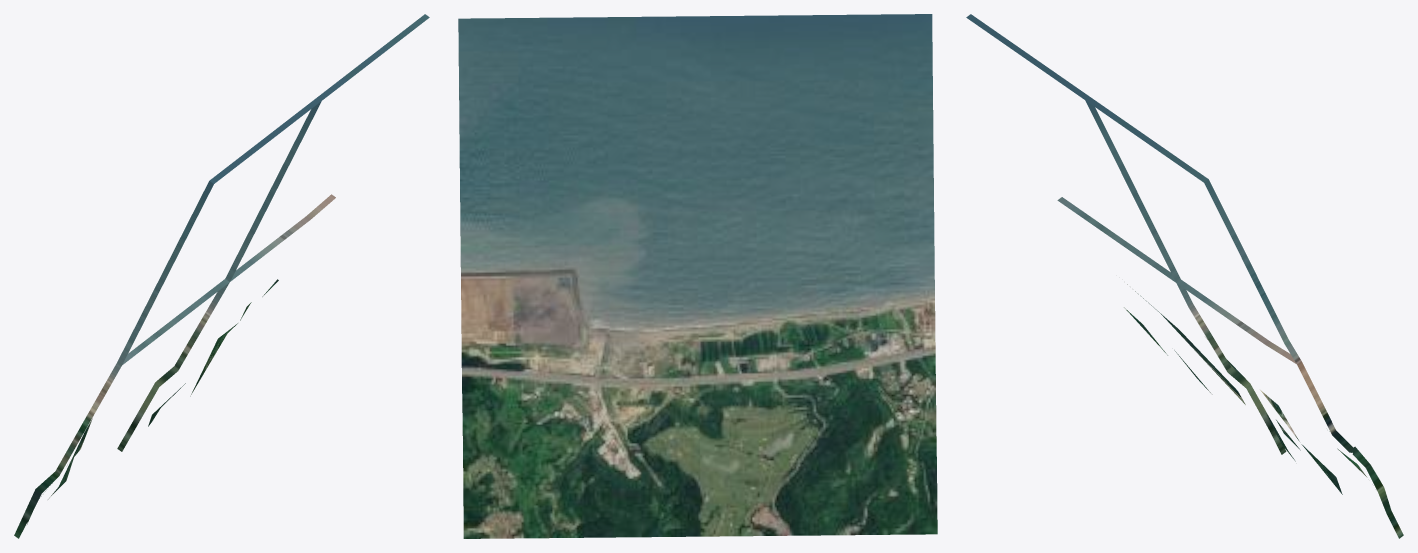
3 views of the same model, side by side, from view 1: azimuth 30°, elevation 25°; view 2: azimuth 150°, elevation 25°; view 3: azimuth 270°, elevation 25° (orthographic). The views are drawn at different scales.
Bounding box in the file's own units: 2479 × 2188 × 2121.
Materials: 1 (1 with a texture image).
